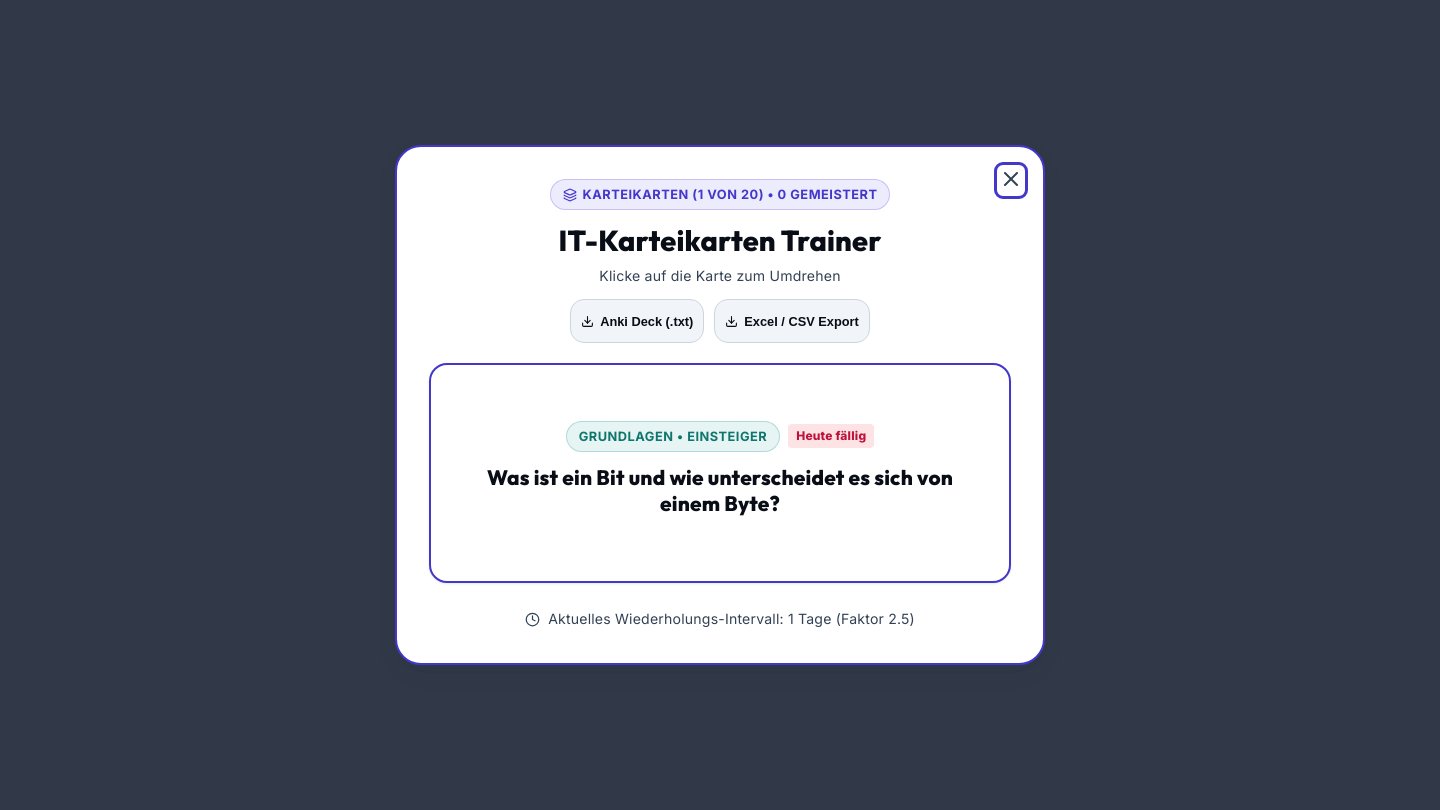
FlashcardsModal › dreht die Karteikarte bei Klick um und zeigt Lösung und Bewertungsbuttons
Expected: the text "💡 Lösung / Erklärung:" is not shown
Note: Klick auf die Karte
Click the heading "Was ist ein Bit und wie unterscheidet es sich von einem Byte?".
click(720, 490)  # box [459,464,981,516]
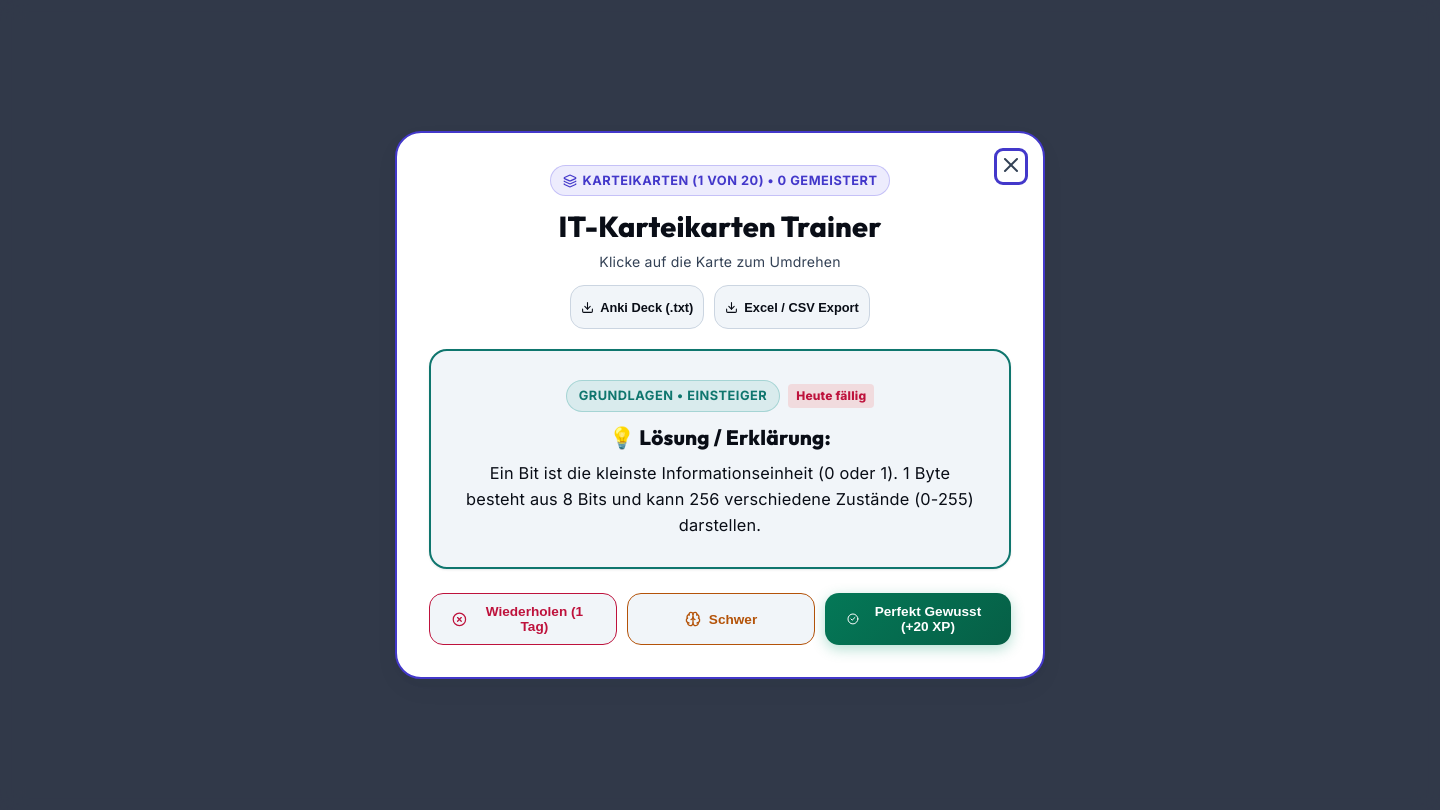
Now the heading "💡 Lösung / Erklärung:" is shown, box [609,424,831,450]
Now the text "Ein Bit ist die kleinste Informationseinheit (0 oder 1). 1 Byte besteht aus 8 Bits und kann 256 verschiedene Zustände (0" is shown, box [466,463,974,535]
Now the button "Wiederholen (1 Tag)" is shown, box [429,593,617,645]
